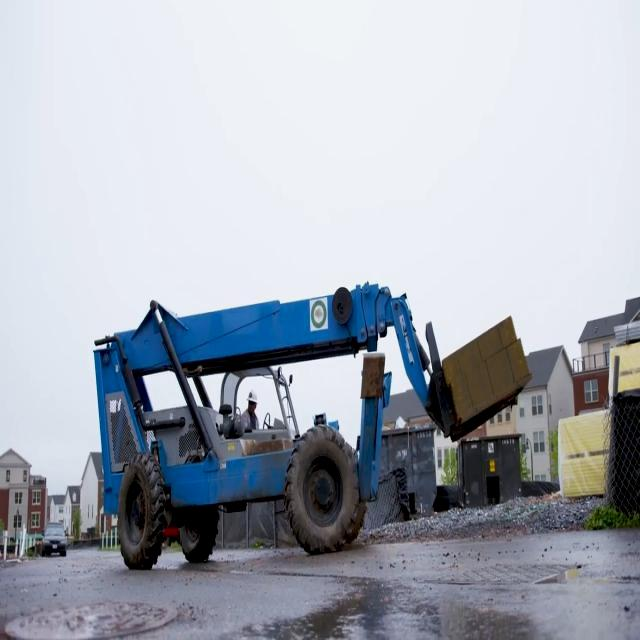helmet: (246, 388, 258, 404)
machinery: (92, 278, 523, 570)
no_mask: (248, 405, 254, 412)
no_vest: (242, 410, 259, 430)
person: (241, 388, 260, 430)
vehicle: (41, 522, 68, 558)
